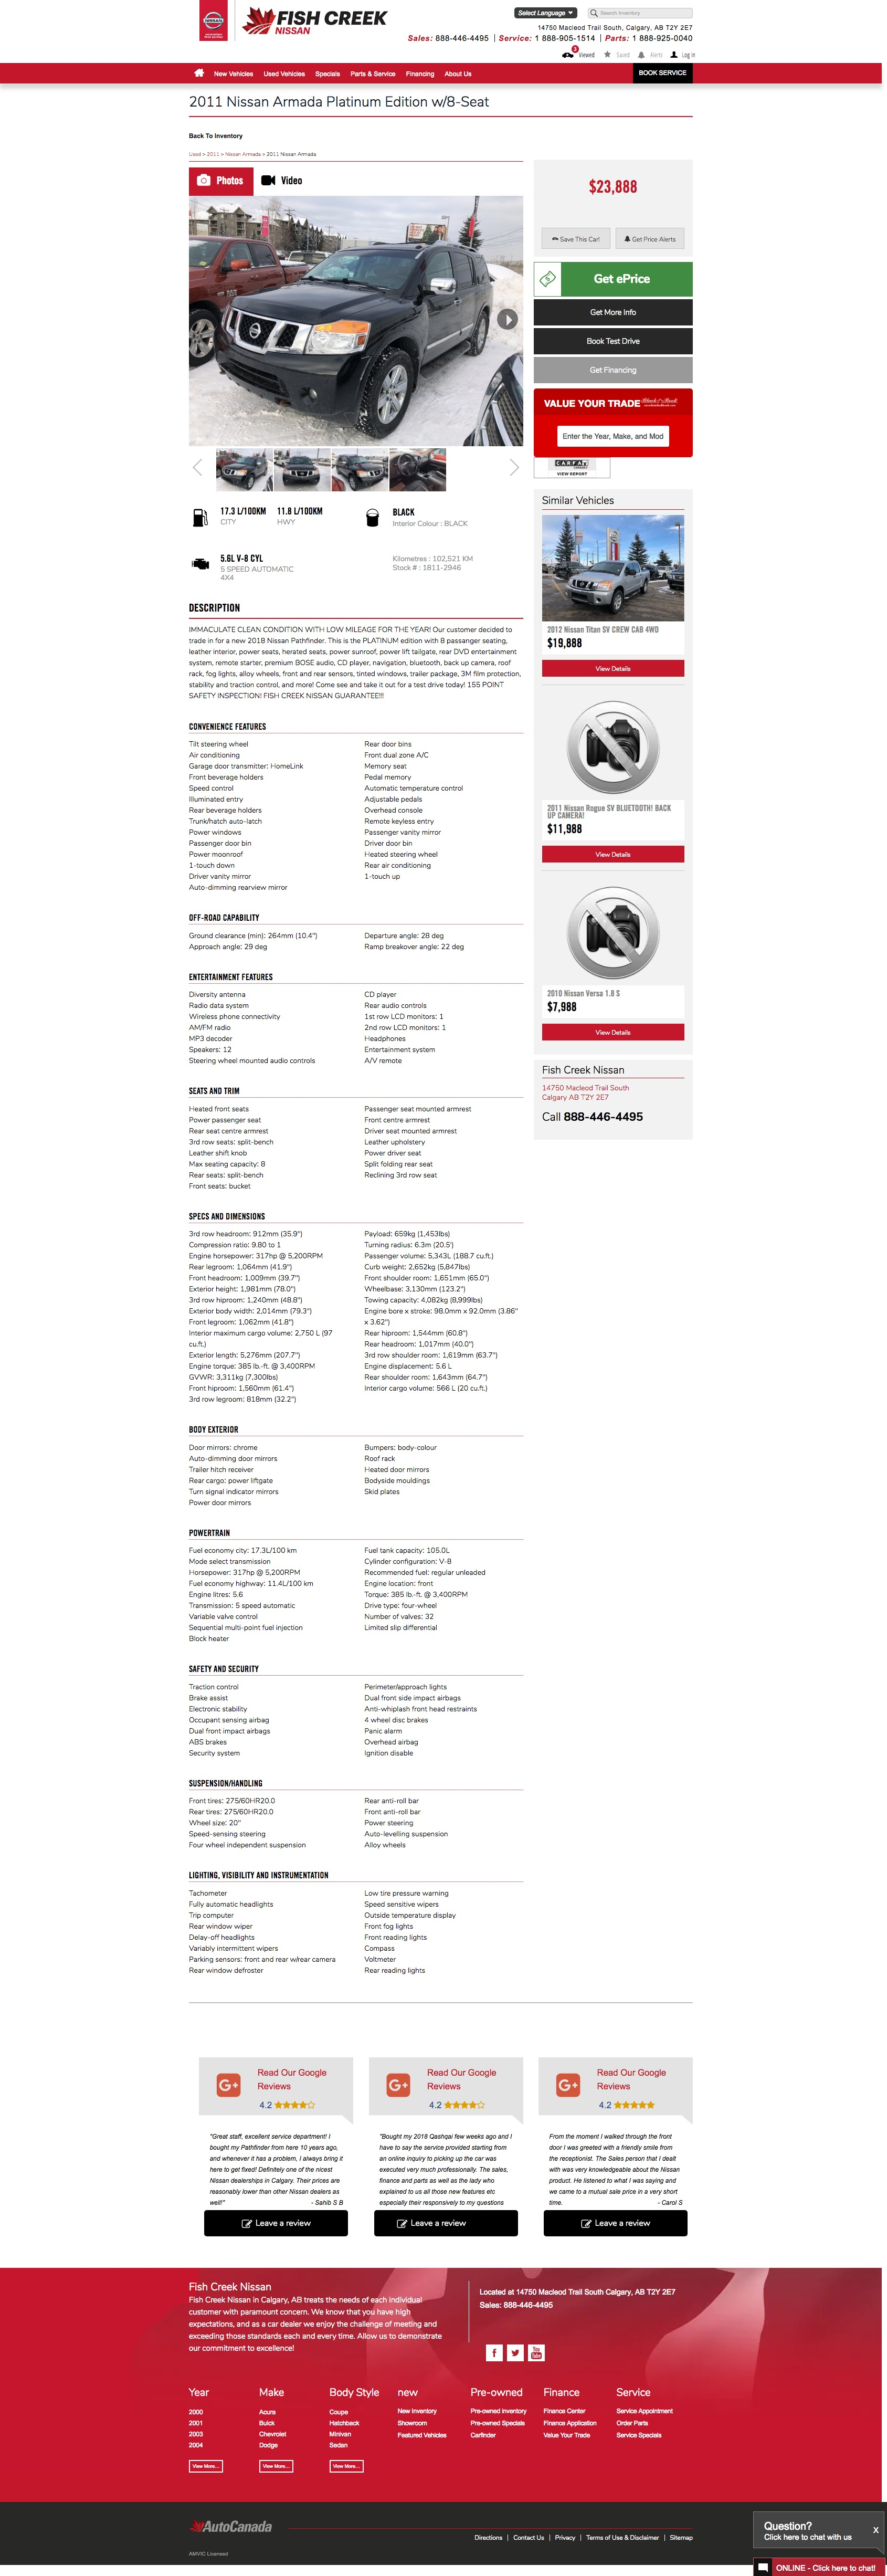car: (511, 458, 519, 476)
